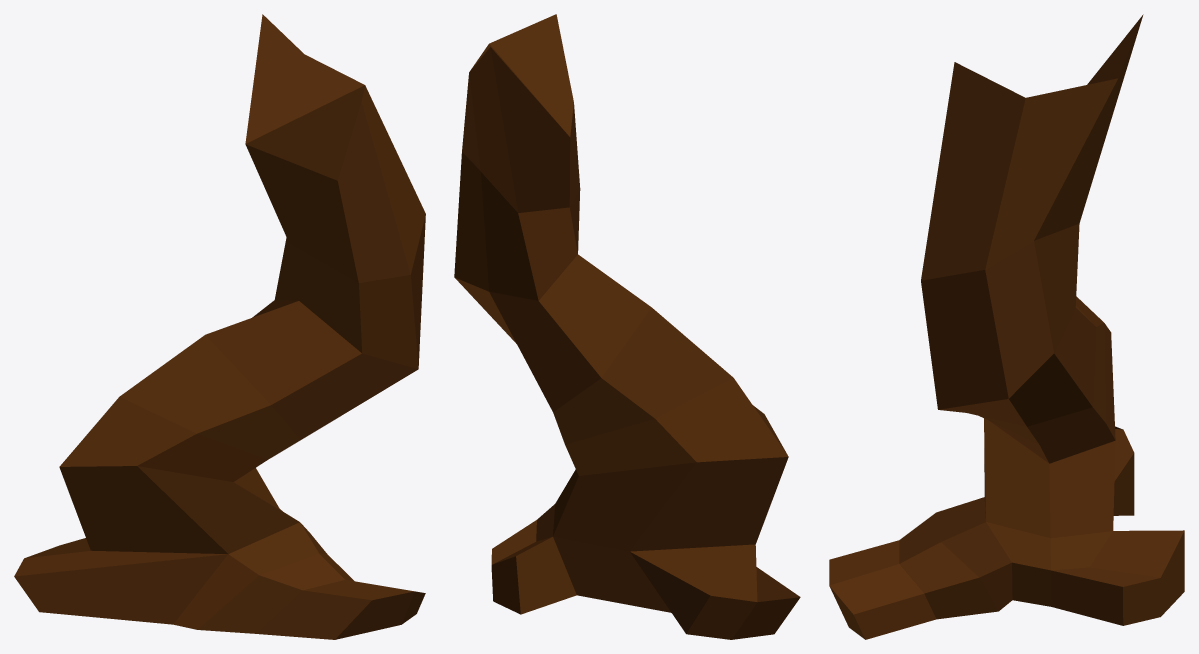
Rendered from ArbolitoMaligno2.fbx.
The picture shows the model from 3 angles, left to right: view 1: azimuth 30°, elevation 25°; view 2: azimuth 150°, elevation 25°; view 3: azimuth 270°, elevation 25°; orthographic projection. The views are drawn at different scales.
Parts seen in each view (by area): view 1: ArbolitoMaligno2; view 2: ArbolitoMaligno2; view 3: ArbolitoMaligno2.
Part boxes in pixels (x1,y1,x2,y2): ArbolitoMaligno2: [14, 14, 425, 639]; ArbolitoMaligno2: [454, 14, 800, 639]; ArbolitoMaligno2: [829, 14, 1184, 639].
Size of the model in its own units: 0.212 by 0.2891 by 0.1525.
